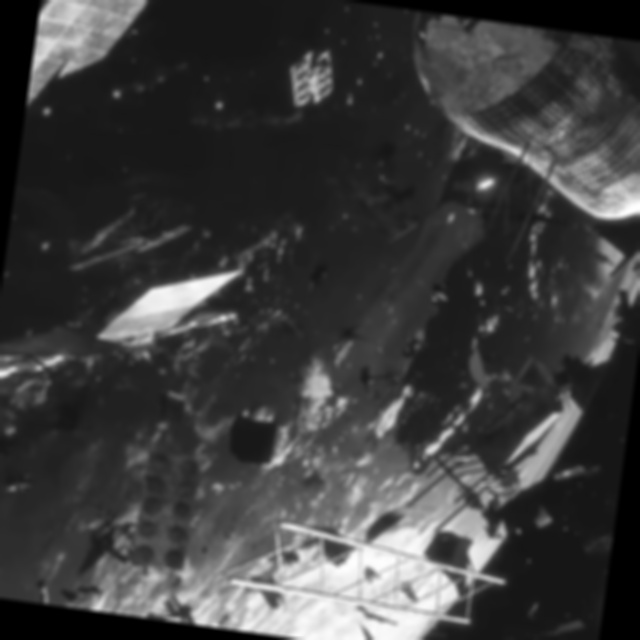large_debris: (369, 8, 640, 292), (375, 309, 596, 559), (227, 499, 524, 640), (24, 0, 178, 147), (93, 252, 251, 384), (119, 430, 214, 586), (0, 318, 68, 456), (280, 35, 357, 129)
